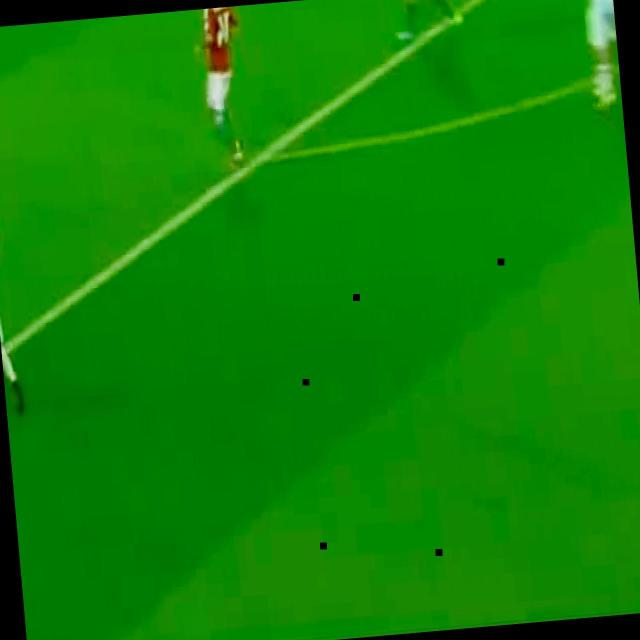player-white: (193, 6, 250, 164), (0, 183, 27, 413), (579, 0, 622, 110), (394, 0, 464, 42)
